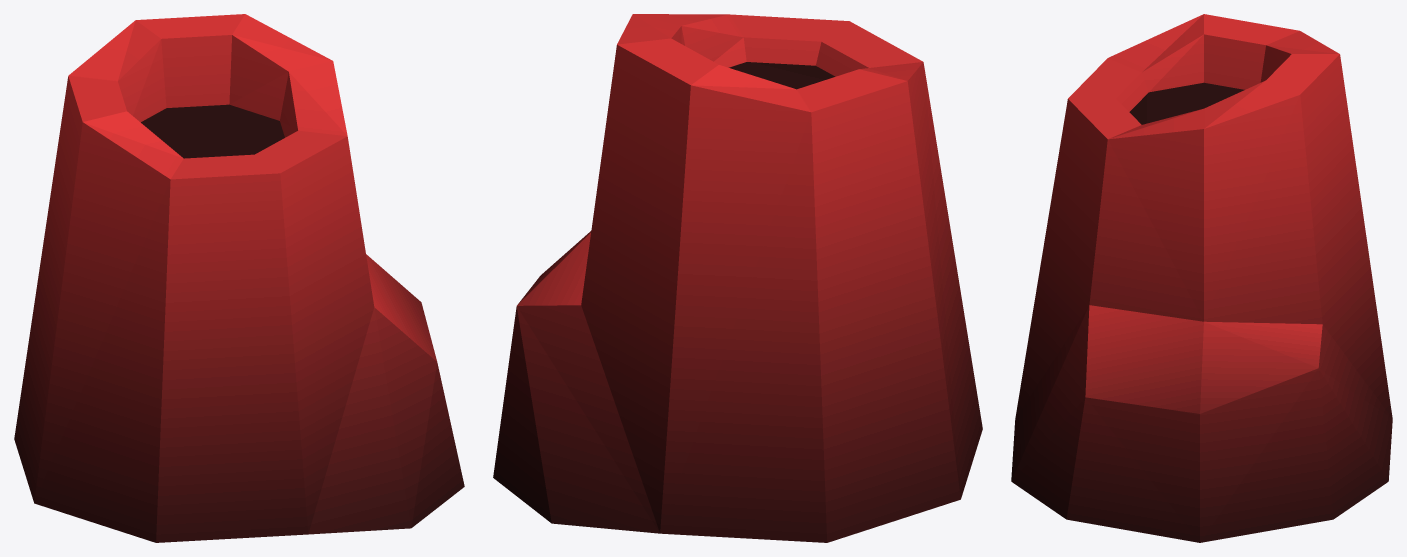
Rendered from PL002_Volcanic01.FBX.
3 renders of one model, left to right at view 1: azimuth 30°, elevation 25°; view 2: azimuth 150°, elevation 25°; view 3: azimuth 270°, elevation 25°, orthographic. The views are drawn at different scales.
Visible parts, largest first — view 1: PL002_Volcanic01; view 2: PL002_Volcanic01; view 3: PL002_Volcanic01.
Boxes of the visible parts, left/top/right/bottom form: PL002_Volcanic01: left=14, top=14, right=464, bottom=542; PL002_Volcanic01: left=493, top=14, right=982, bottom=542; PL002_Volcanic01: left=1011, top=14, right=1392, bottom=542.
Bounding box in the file's own units: 400 × 379 × 344.
Materials: 1 (1 with a texture image).
